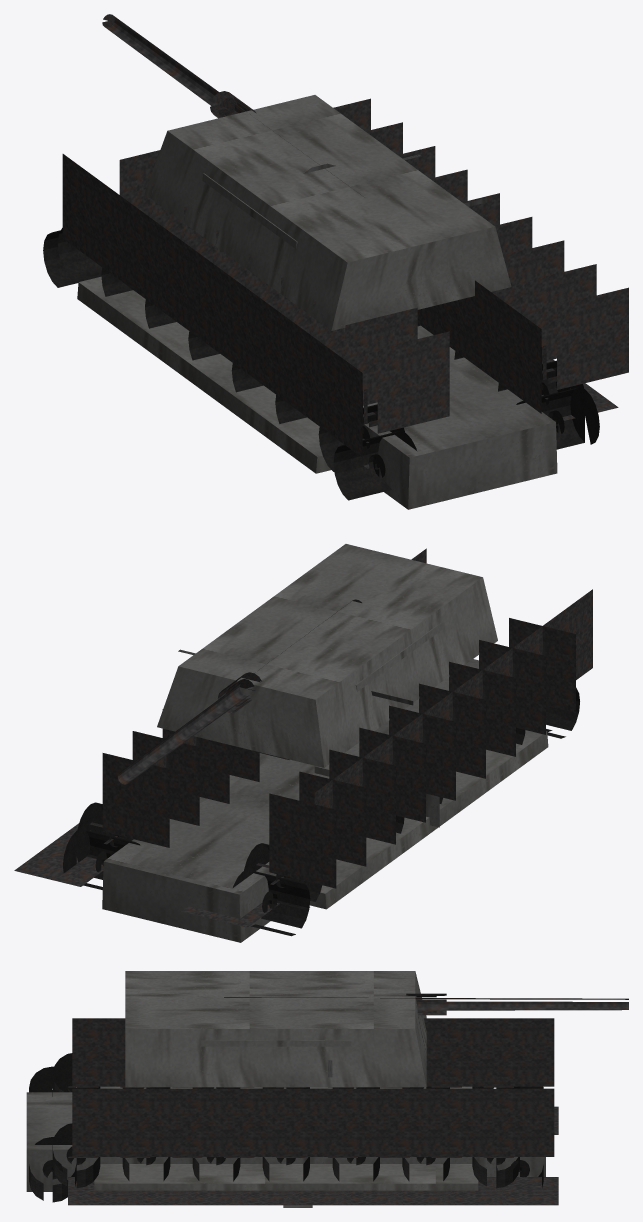
The model's file is ct-heavy.glb.
3 views of the same model, one above another, from view 1: azimuth 30°, elevation 25°; view 2: azimuth 150°, elevation 25°; view 3: azimuth 270°, elevation 25° (orthographic). The views are drawn at different scales.
Visible parts, largest first — view 1: Turret, Hull, TrackL0, TrackR0, TrackR1, TrackL1, TrackR8, TrackL2, TrackR3, TrackR7, TrackR2, TrackR5 (+14 smaller); view 2: Turret, Hull, TrackL8, TrackR8, TrackR0, TrackR7, TrackR5, TrackR6, TrackR3, TrackR4, TrackR1, TrackR2 (+8 smaller); view 3: Turret, Hull, TrackL0, TrackL8, TrackL7, TrackL5, TrackL6, TrackL2, TrackL1, TrackL4, TrackL3, TrackR8 (+14 smaller).
Boxes of the visible parts, x1,y1,x2,y2 form: Turret: (144, 95, 511, 330); Hull: (77, 274, 557, 509); TrackL0: (500, 287, 628, 420); TrackR0: (321, 331, 449, 468); TrackR1: (288, 307, 417, 432); TrackL1: (467, 264, 596, 389); TrackR8: (62, 150, 160, 266); TrackL2: (435, 240, 564, 365); TrackR3: (224, 272, 313, 386); TrackR7: (95, 177, 183, 291); TrackR2: (256, 295, 345, 410); TrackR5: (159, 225, 248, 332); Turret: (157, 544, 497, 767); Hull: (102, 659, 548, 942); TrackL8: (14, 741, 186, 886); TrackR8: (181, 769, 352, 927); TrackR0: (509, 589, 592, 712); TrackR7: (276, 743, 383, 905); TrackR5: (359, 699, 442, 822); TrackR6: (329, 721, 413, 844); TrackR3: (419, 655, 502, 778); TrackR4: (389, 679, 470, 800); TrackR1: (479, 612, 562, 734); TrackR2: (449, 634, 532, 756); Turret: (125, 971, 426, 1087); Hull: (26, 1086, 545, 1207); TrackL0: (68, 1088, 143, 1205); TrackL8: (483, 1088, 558, 1205); TrackL7: (431, 1088, 506, 1205); TrackL5: (327, 1088, 402, 1205); TrackL6: (379, 1088, 454, 1205); TrackL2: (171, 1088, 247, 1205); TrackL1: (120, 1088, 195, 1205); TrackL4: (275, 1088, 350, 1205); TrackL3: (224, 1088, 298, 1205); TrackR8: (483, 1018, 558, 1134).
Size of the model in its own units: 4.4 by 2.72 by 9.
Materials: 3 (3 with a texture image).
